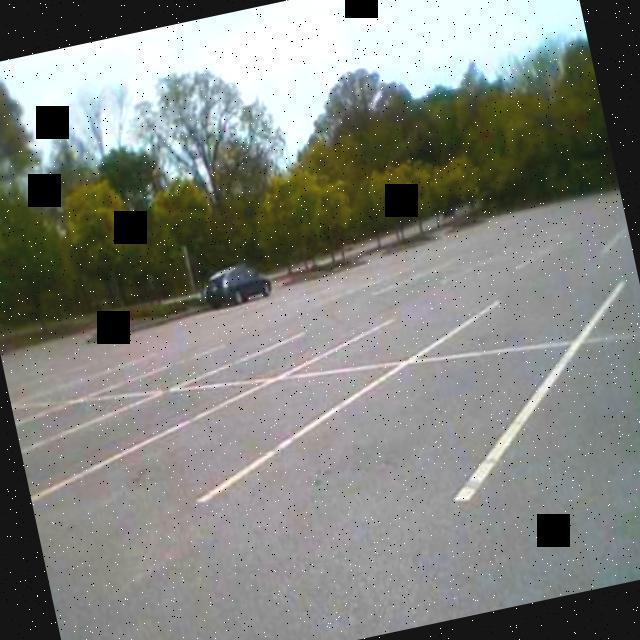free: (204, 343, 565, 501), (31, 364, 383, 504), (407, 277, 616, 354), (285, 296, 476, 372), (184, 316, 372, 385)
